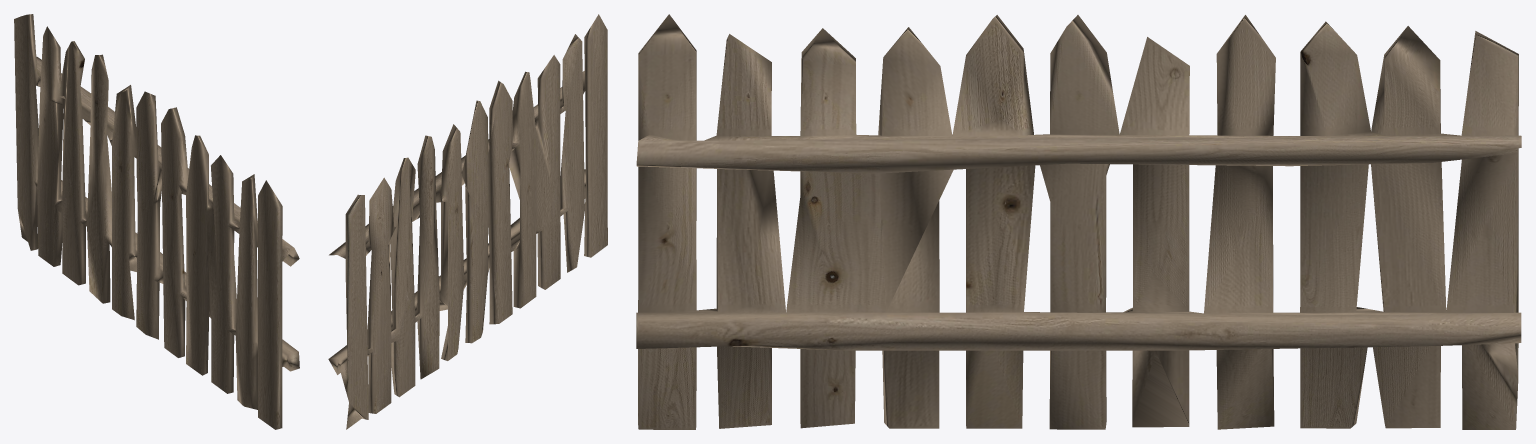
Rendered from holz_zaun_a.glb.
The picture shows the model from 3 angles, left to right: view 1: azimuth 30°, elevation 25°; view 2: azimuth 150°, elevation 25°; view 3: azimuth 270°, elevation 25°; orthographic projection. The views are drawn at different scales.
Parts seen in each view (by area): view 1: tripo_node_54aa7764-a0d9-4eee-a5d7-144ddb5739fb; view 2: tripo_node_54aa7764-a0d9-4eee-a5d7-144ddb5739fb; view 3: tripo_node_54aa7764-a0d9-4eee-a5d7-144ddb5739fb.
Boxes of the visible parts, bbox=[...] form: tripo_node_54aa7764-a0d9-4eee-a5d7-144ddb5739fb: bbox=[14, 14, 299, 429]; tripo_node_54aa7764-a0d9-4eee-a5d7-144ddb5739fb: bbox=[328, 14, 607, 429]; tripo_node_54aa7764-a0d9-4eee-a5d7-144ddb5739fb: bbox=[636, 14, 1521, 429].
Size of the model in its own units: 0.0518 by 0.5016 by 0.977.
1 material, 1 textured.
